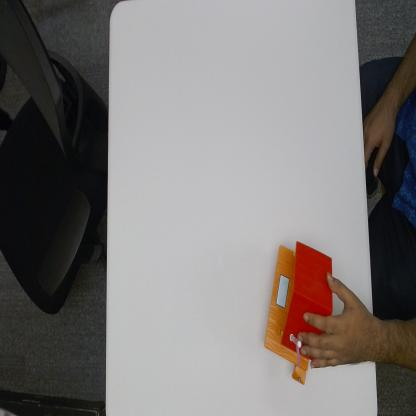Hand: (300, 276, 374, 375)
House: (265, 242, 333, 386)
